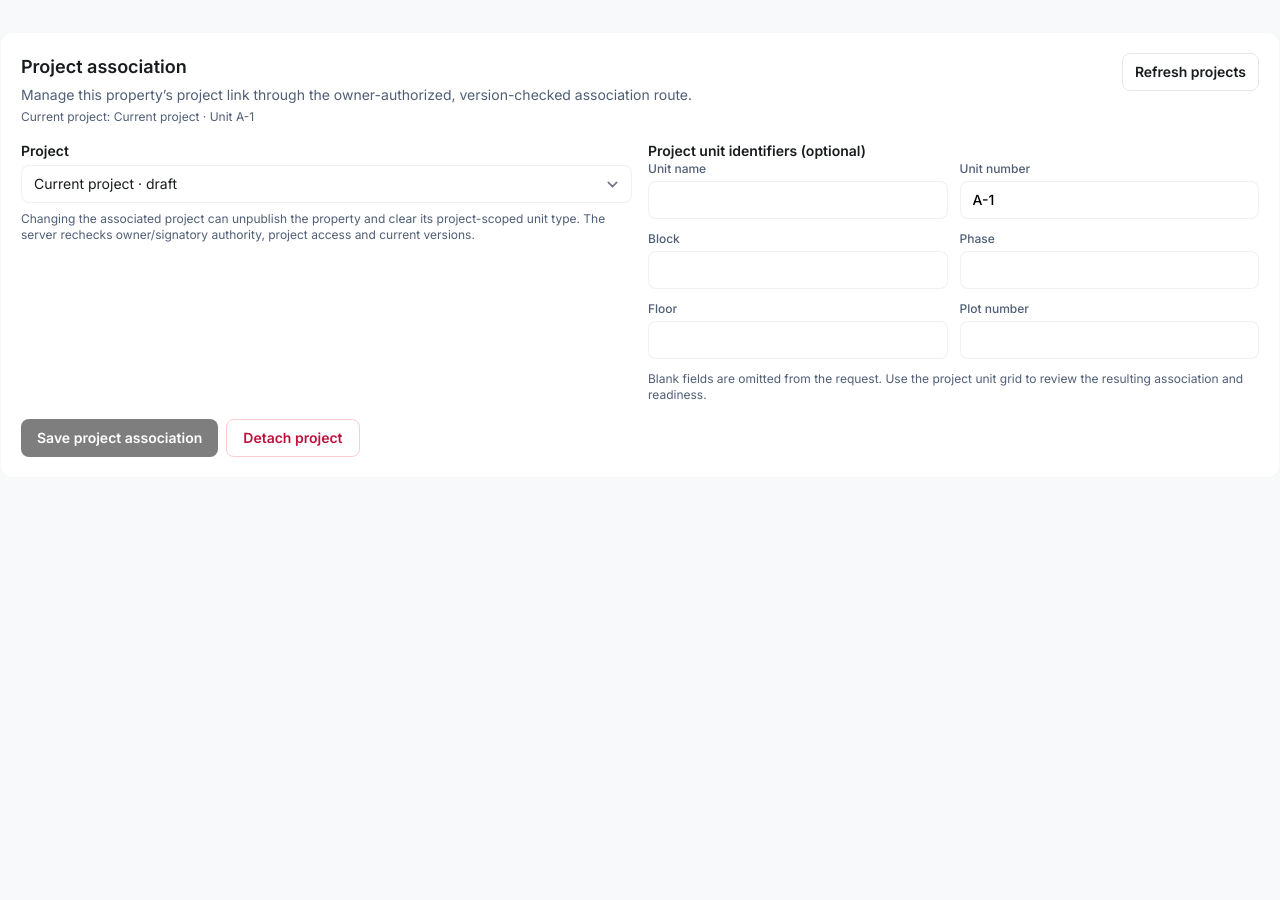
Test case: PropertyProjectAssociation › moves a property through a versioned, profile-bound step-up request and refreshes the record
Select "New project · draft" in the dropdown labelled "Project": (326, 184) [21, 165, 632, 203]
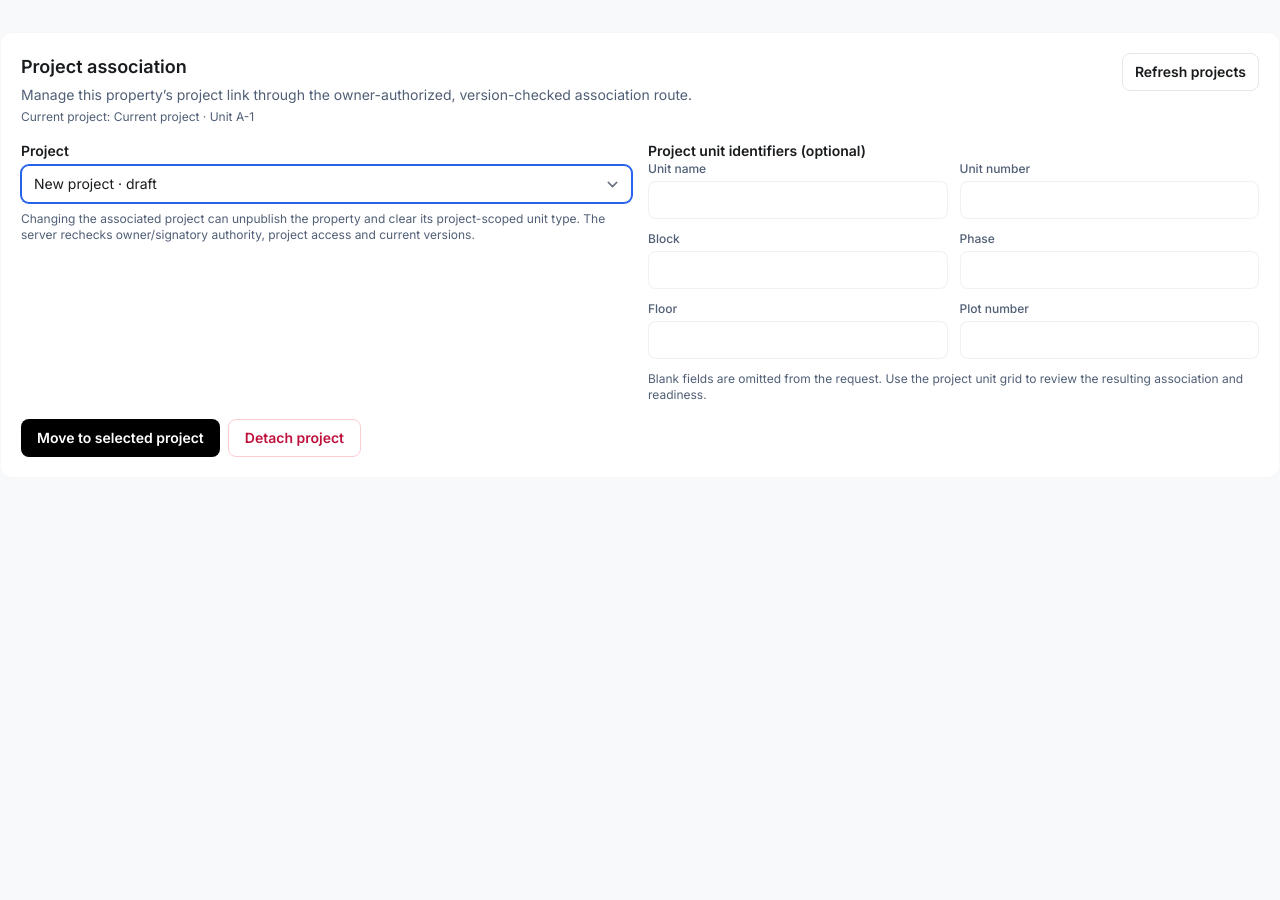
Click the button "Move to selected project": (120, 438) [21, 419, 220, 457]
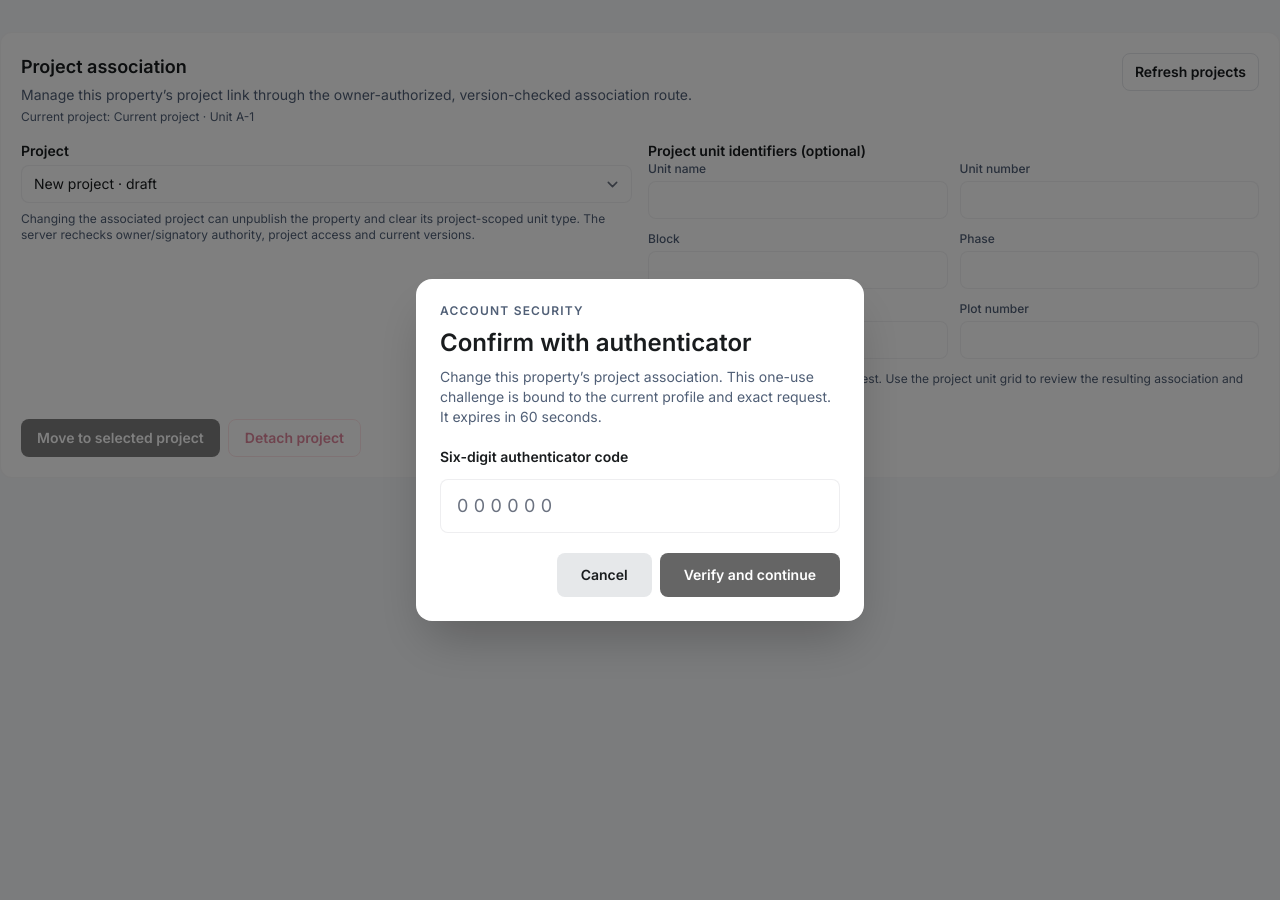
In the field labelled "Six-digit authenticator code": (640, 506) [440, 479, 840, 533], type "123456"
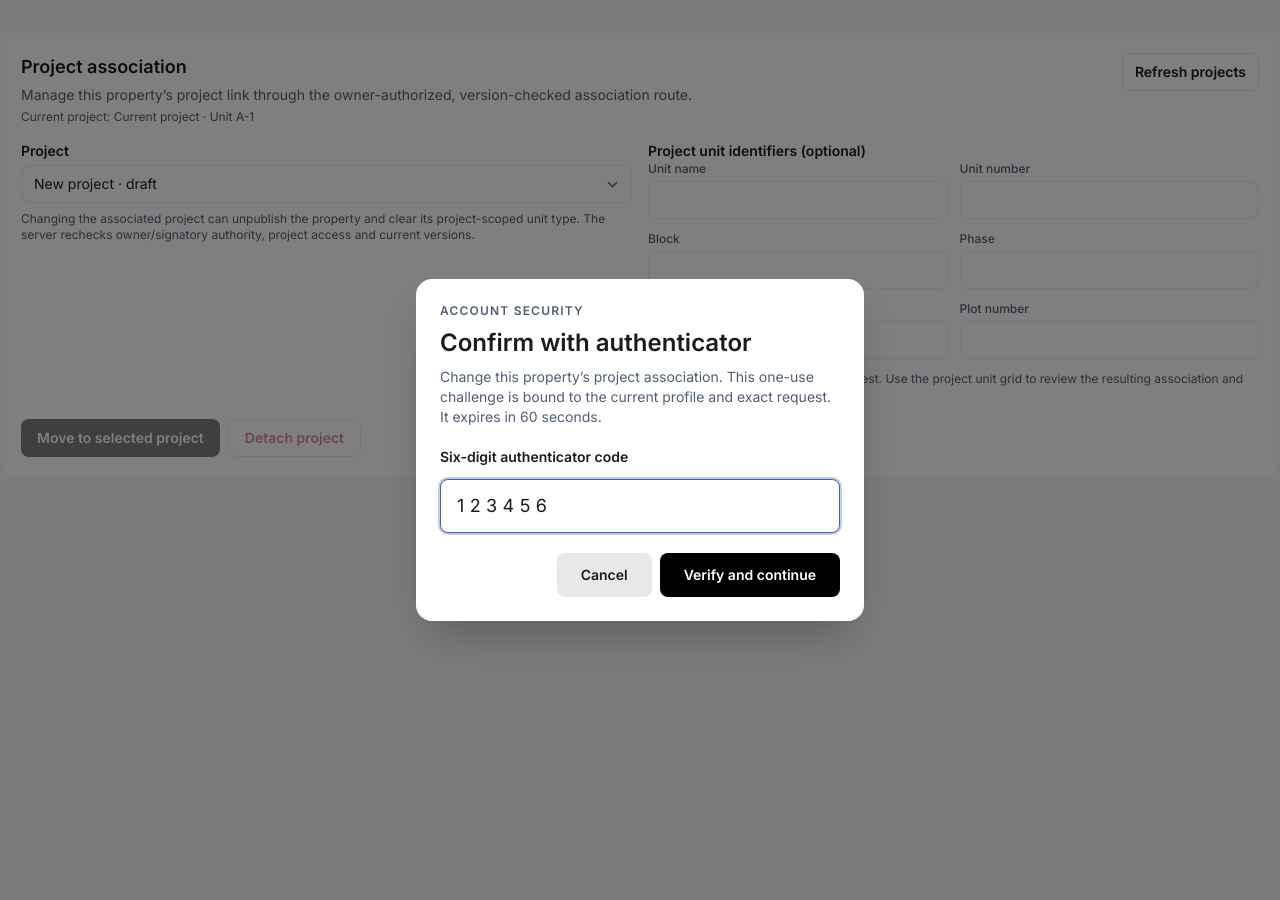
Expected: the button "Verify and continue" is enabled
Click the button "Verify and continue": (750, 575) [660, 553, 840, 597]
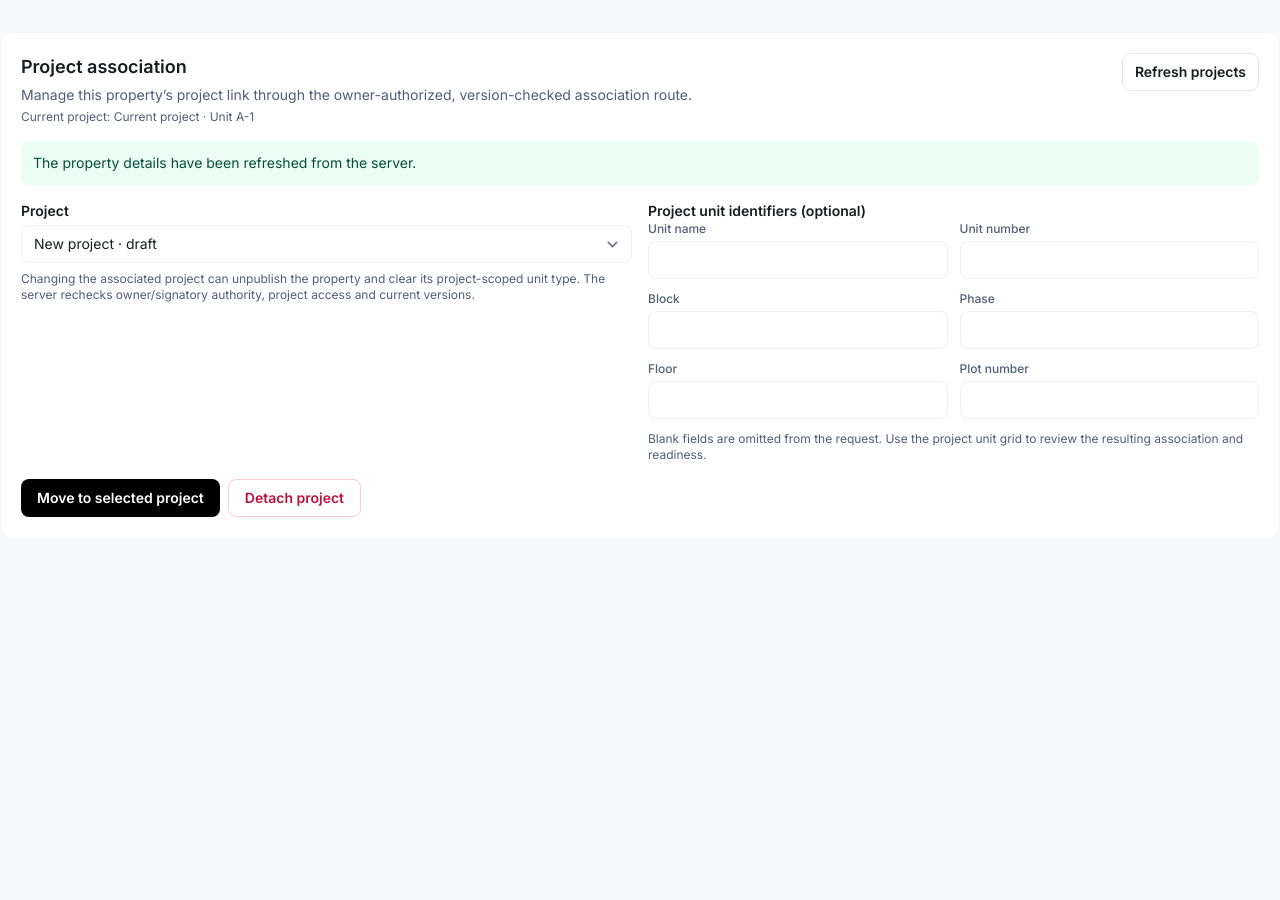
Expected: the text "The property details have been refreshed from the server." is shown, [21, 141, 1259, 185]
